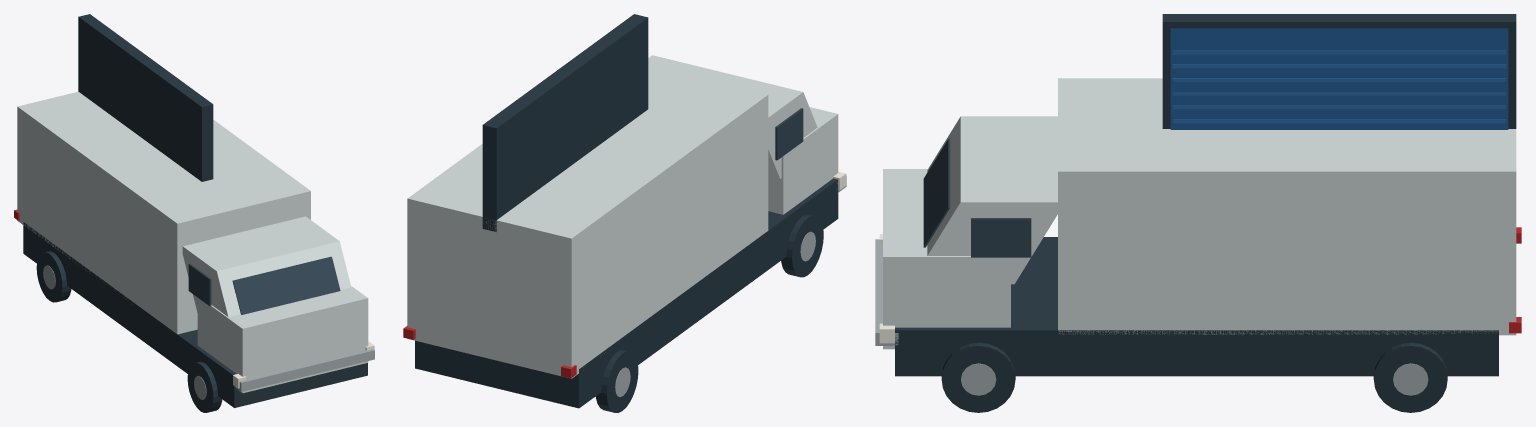
File: scendance-plan-large-screen-truck.glb
3 renders of one model, left to right at view 1: azimuth 30°, elevation 25°; view 2: azimuth 150°, elevation 25°; view 3: azimuth 270°, elevation 25°, orthographic. The views are drawn at different scales.
Size of the model in its own units: 2.63 by 4.22 by 7.16.
